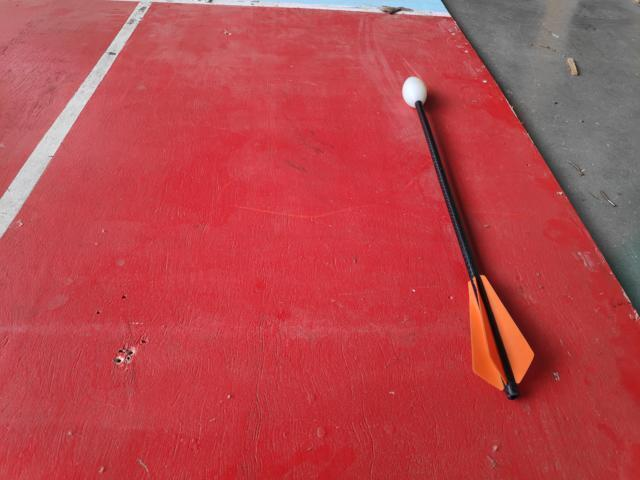Head: (399, 74, 433, 110)
Tail: (462, 273, 539, 402)
